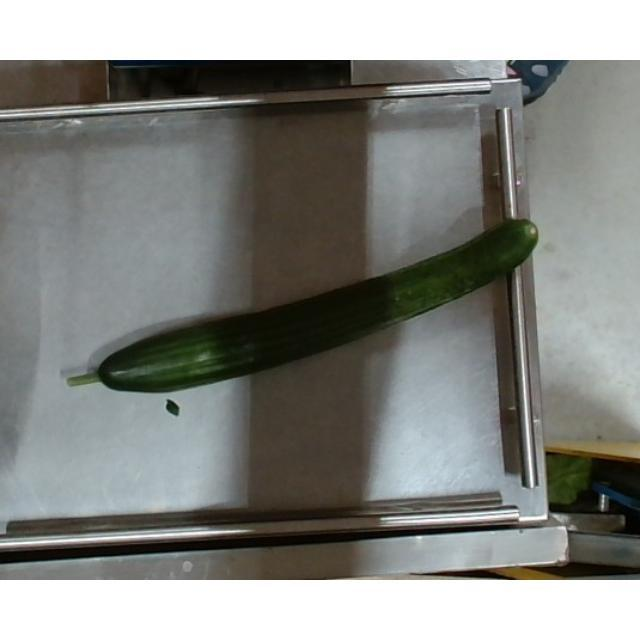cucumber: (66, 222, 538, 394)
